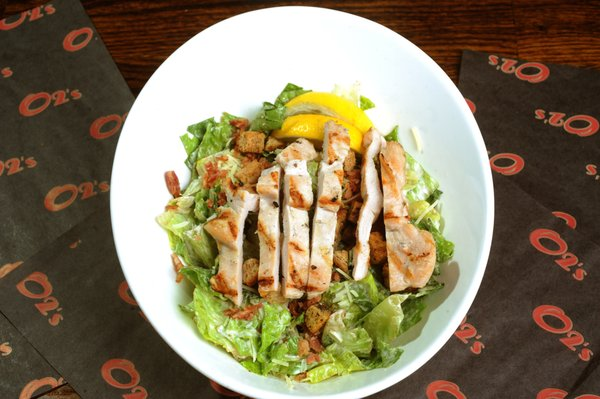curry: (2, 2, 596, 394)
